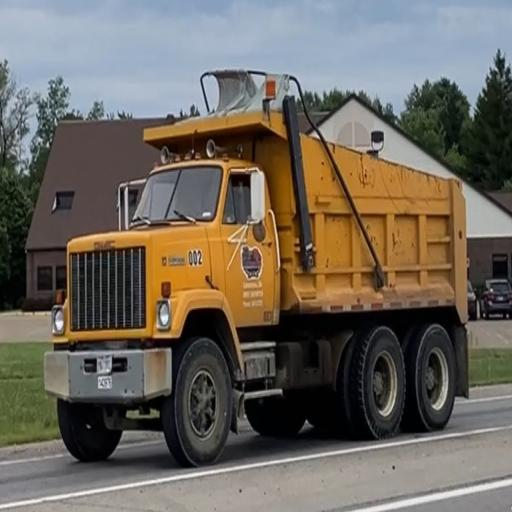truck: (42, 107, 469, 469)
